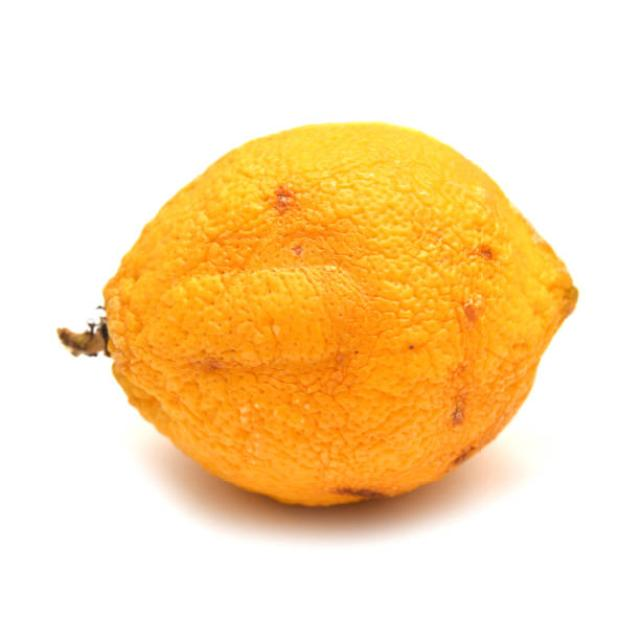overripe: (54, 120, 580, 512)
